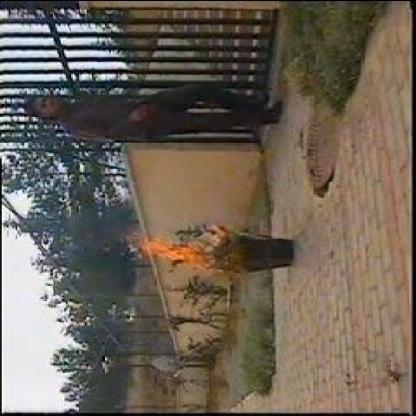foggia-v2-map80-epoch100 - v1 4323: (132, 237, 206, 265)
